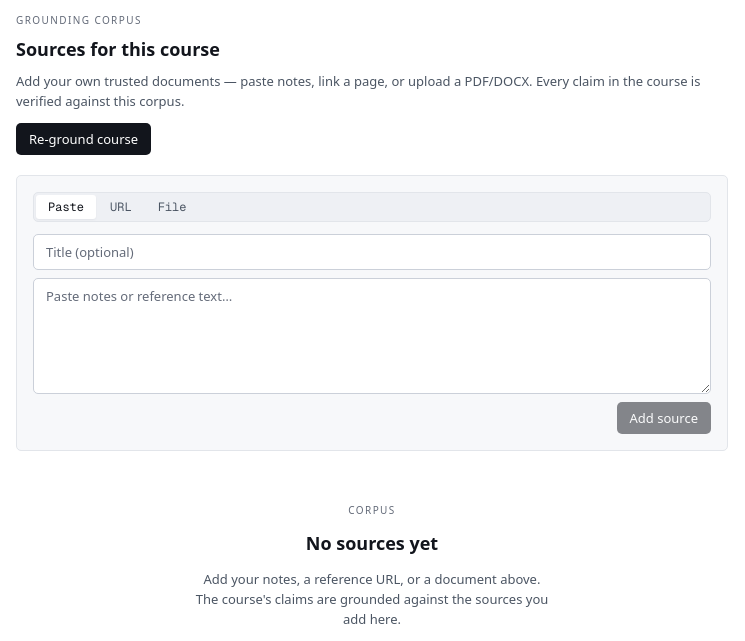
Test case: CorpusPanel › adds a pasted source and shows it after the reload
Expected: the heading "No sources yet" is shown, x1=306 y1=530 x2=438 y2=557
Type "My notes" into the field with placeholder "Title (optional)" at (372, 252), box x1=33 y1=234 x2=711 y2=270
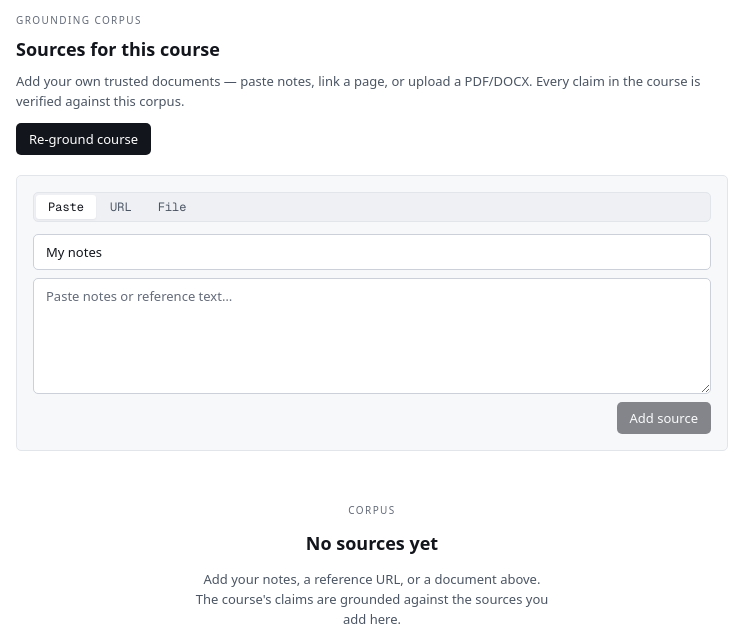
Type "Dijkstra relaxes edges." into the text box with placeholder "Paste notes or reference text…" at (372, 336), box x1=33 y1=278 x2=711 y2=394
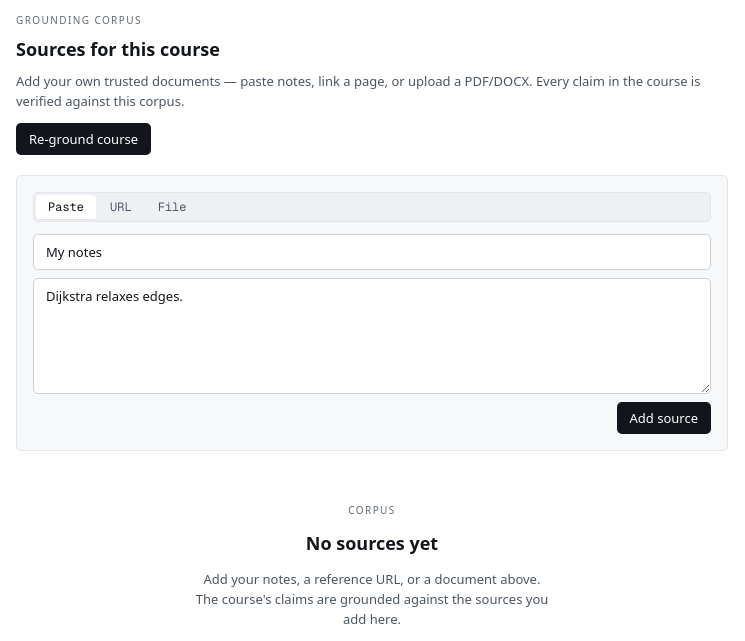
Click the button "Add source" at (664, 418), box x1=616 y1=402 x2=711 y2=434
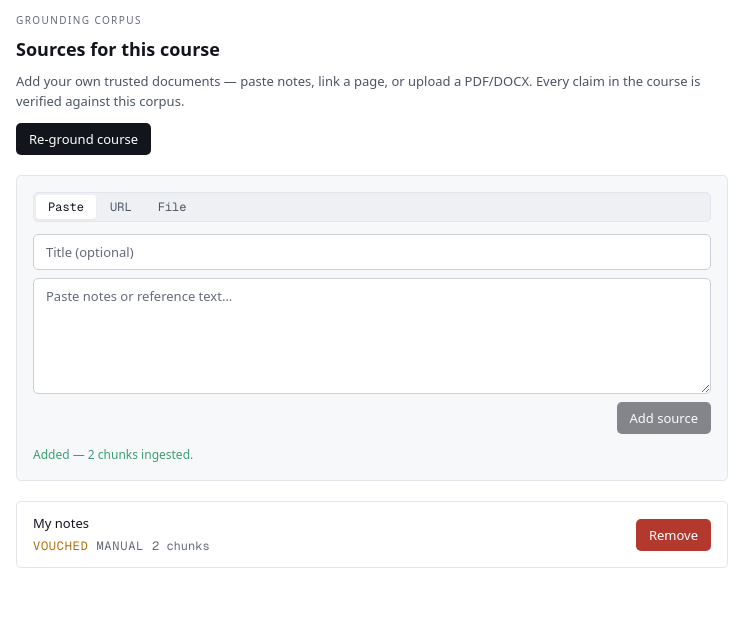
Expected: the message shows "2 chunks ingested", x1=33 y1=446 x2=193 y2=463
Expected: the text "My notes" is shown, x1=33 y1=514 x2=89 y2=532
